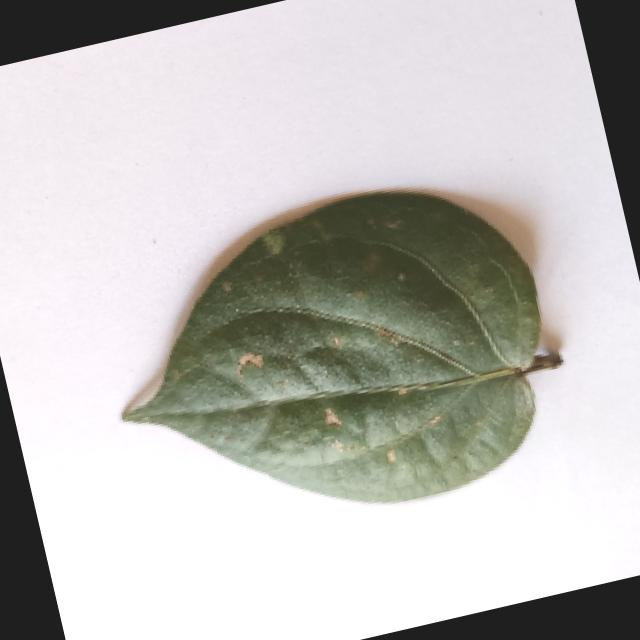pollu-disease: (84, 163, 582, 562)
